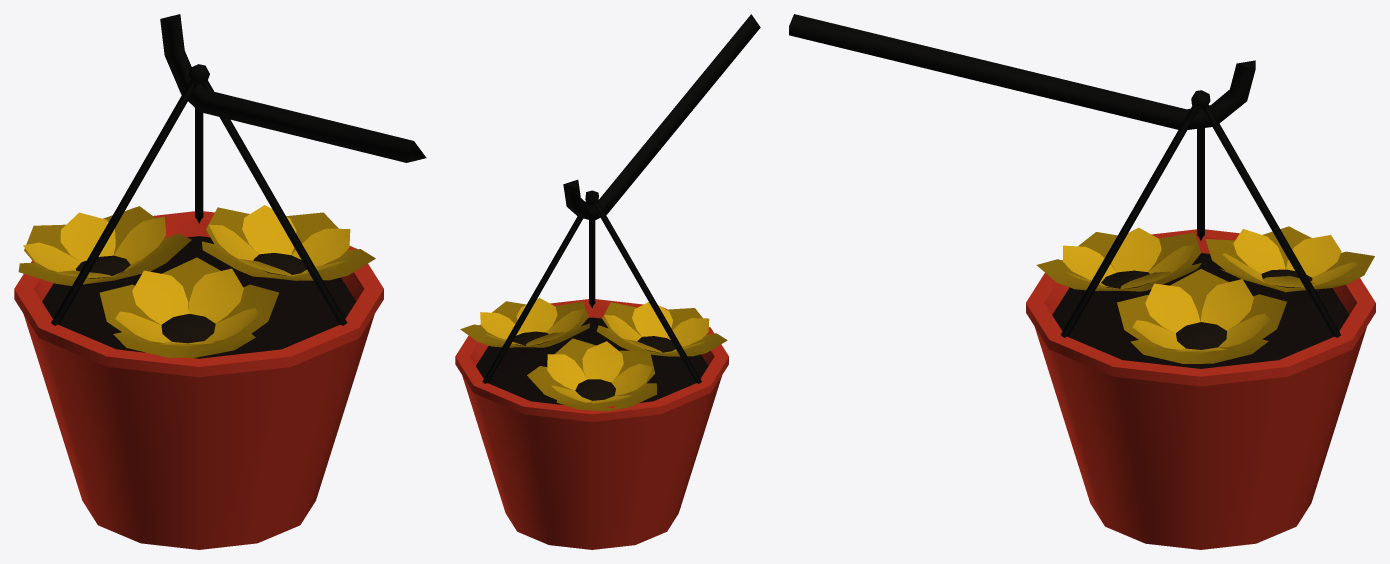
Rendered from Prop_FlowerPotHanging.fbx.
3 renders of one model, left to right at view 1: azimuth 30°, elevation 25°; view 2: azimuth 150°, elevation 25°; view 3: azimuth 270°, elevation 25°, orthographic. The views are drawn at different scales.
Visible parts, largest first — view 1: Prop_FlowerPotHanging; view 2: Prop_FlowerPotHanging; view 3: Prop_FlowerPotHanging.
Part boxes in pixels (x1,y1,x2,y2): Prop_FlowerPotHanging: (14,14,426,549); Prop_FlowerPotHanging: (455,14,760,549); Prop_FlowerPotHanging: (789,14,1375,549).
Size of the model in its own units: 19.68 by 30.35 by 32.99.
